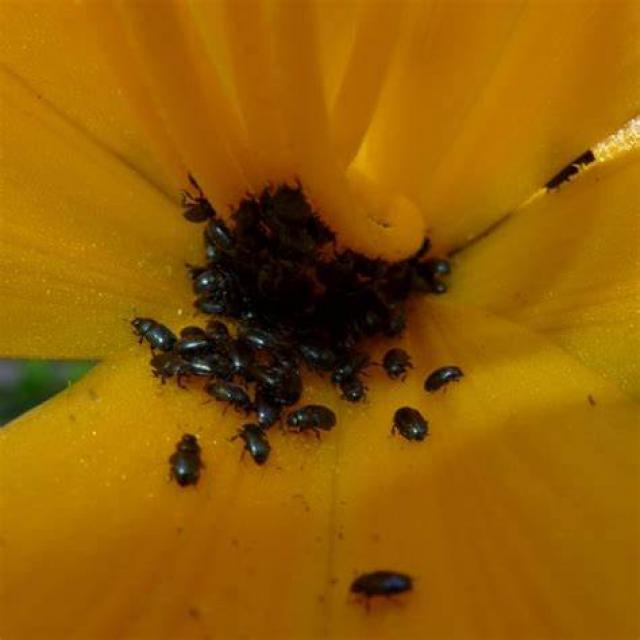pollen_beetle: (131, 310, 311, 426), (154, 408, 300, 478), (384, 348, 479, 448)
